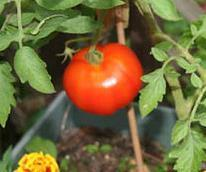tomato: (62, 42, 144, 114)
